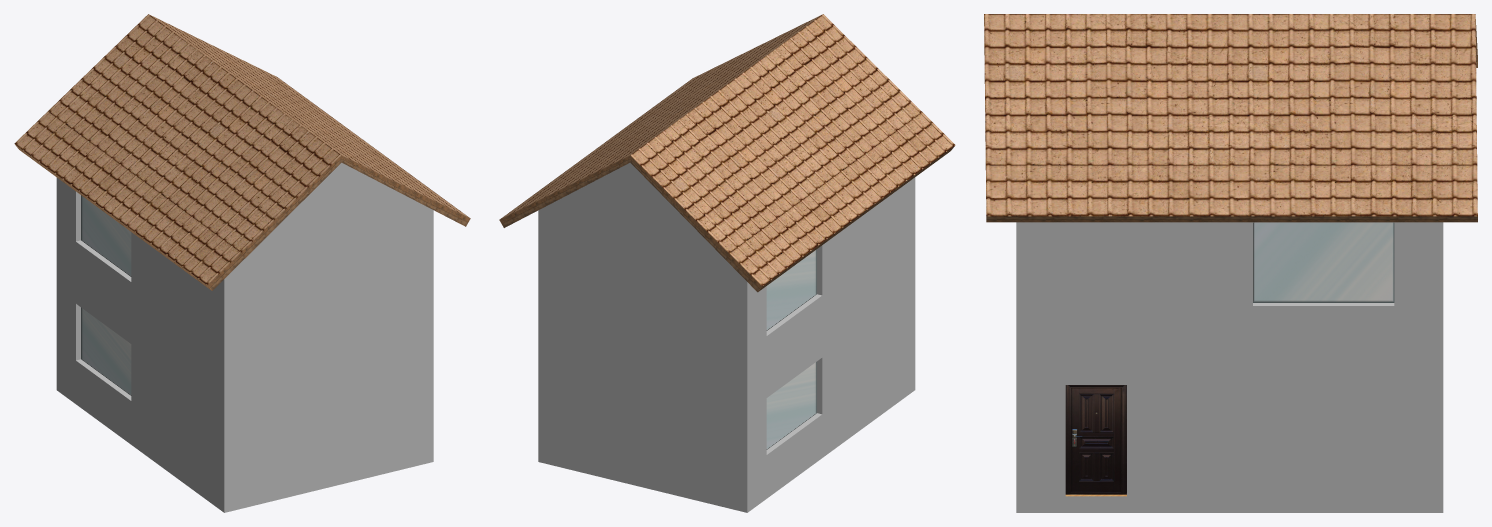
The model's file is house_2floors.fbx.
3 views of the same model, side by side, from view 1: azimuth 30°, elevation 25°; view 2: azimuth 150°, elevation 25°; view 3: azimuth 270°, elevation 25° (orthographic). The views are drawn at different scales.
Parts seen in each view (by area): view 1: Walls+Roof, Window1, Window0; view 2: Walls+Roof, Window1, Window0; view 3: Walls+Roof, Window2, Door.
Part boxes in pixels (x1,y1,x2,y2): Walls+Roof: (14, 14, 470, 512); Window1: (81, 307, 131, 395); Window0: (81, 195, 131, 276); Walls+Roof: (499, 14, 955, 512); Window1: (766, 361, 816, 449); Window0: (766, 249, 816, 330); Walls+Roof: (984, 14, 1477, 512); Window2: (1253, 222, 1394, 302); Door: (1065, 385, 1126, 494).
Bounding box in the file's own units: 6.29 × 7.8 × 8.04.
